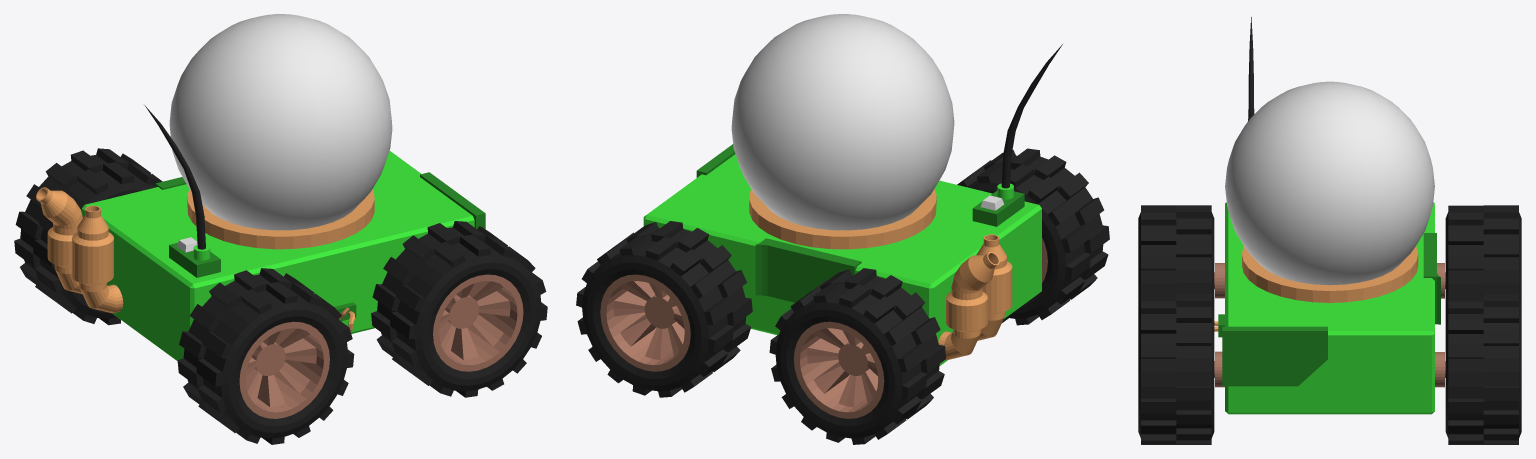
Rendered from Pisces Carper Mechsuit_1.fbx.
3 views of the same model, side by side, from view 1: azimuth 30°, elevation 25°; view 2: azimuth 150°, elevation 25°; view 3: azimuth 270°, elevation 25° (orthographic). The views are drawn at different scales.
Parts seen in each view (by area): view 1: Fishmech_1, Fishbowl, Fishmech_1 Wheel BR, Fishmech_1 Wheel FR, Fishmech_1 Wheel BL; view 2: Fishbowl, Fishmech_1, Fishmech_1 Wheel BL, Fishmech_1 Wheel FL, Fishmech_1 Wheel BR; view 3: Fishbowl, Fishmech_1, Fishmech_1 Wheel FL, Fishmech_1 Wheel FR, Fishmech_1 Wheel BR, Fishmech_1 Wheel BL.
Boxes of the visible parts, x1,y1,x2,y2 form: Fishmech_1: [36, 105, 485, 360]; Fishbowl: [169, 14, 392, 230]; Fishmech_1 Wheel BR: [177, 268, 354, 444]; Fishmech_1 Wheel FR: [371, 221, 547, 397]; Fishmech_1 Wheel BL: [14, 148, 162, 325]; Fishbowl: [731, 14, 954, 230]; Fishmech_1: [643, 44, 1062, 366]; Fishmech_1 Wheel BL: [769, 268, 946, 444]; Fishmech_1 Wheel FL: [576, 221, 752, 397]; Fishmech_1 Wheel BR: [957, 148, 1109, 325]; Fishbowl: [1225, 81, 1434, 285]; Fishmech_1: [1214, 17, 1440, 414]; Fishmech_1 Wheel FL: [1435, 294, 1521, 444]; Fishmech_1 Wheel FR: [1138, 294, 1224, 444]; Fishmech_1 Wheel BR: [1138, 205, 1224, 306]; Fishmech_1 Wheel BL: [1437, 205, 1521, 306].
Bounding box in the file's own units: 1512 × 1270 × 1461.
